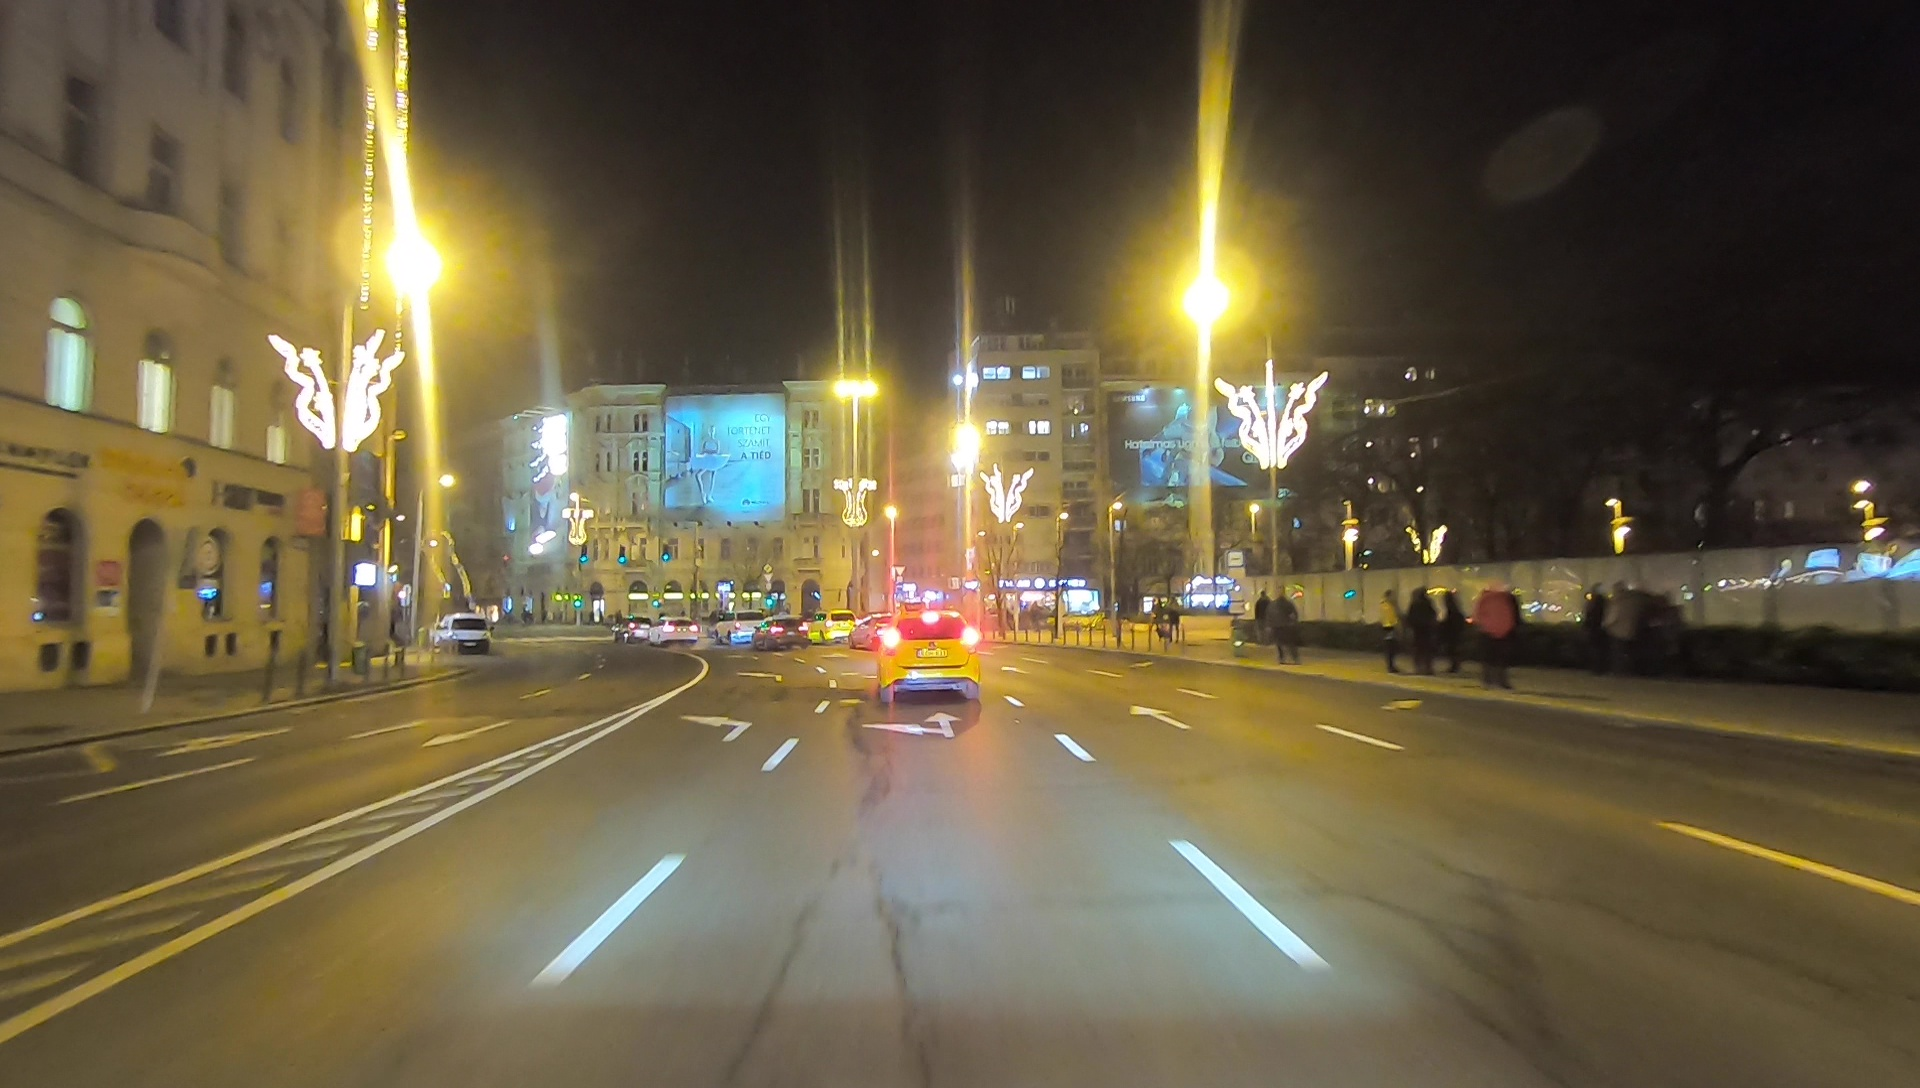person: (1476, 584, 1510, 691), (1408, 584, 1441, 676), (1375, 582, 1406, 678), (1271, 589, 1299, 665), (1443, 593, 1467, 676), (1252, 593, 1275, 658)
